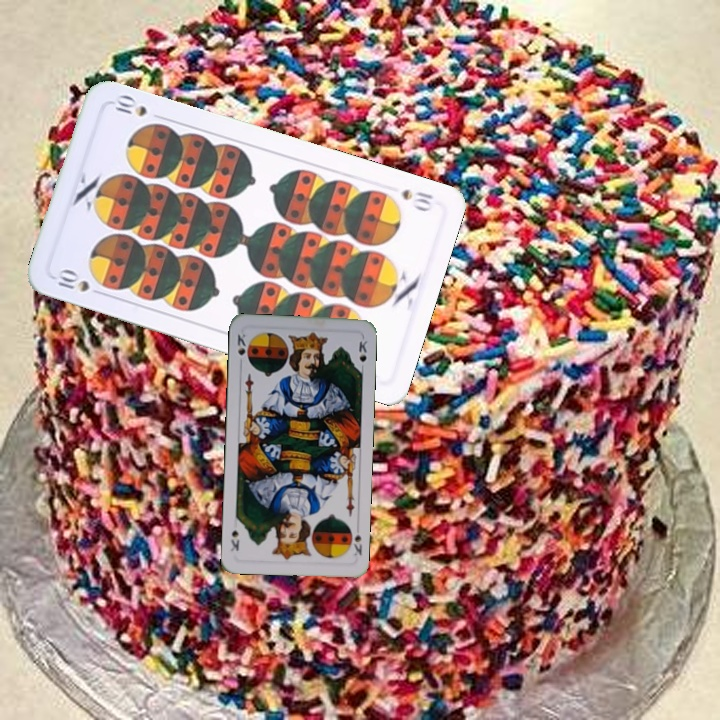S10: (50, 265, 107, 299), (397, 185, 436, 214)
SK: (233, 330, 248, 369), (349, 530, 365, 558)
